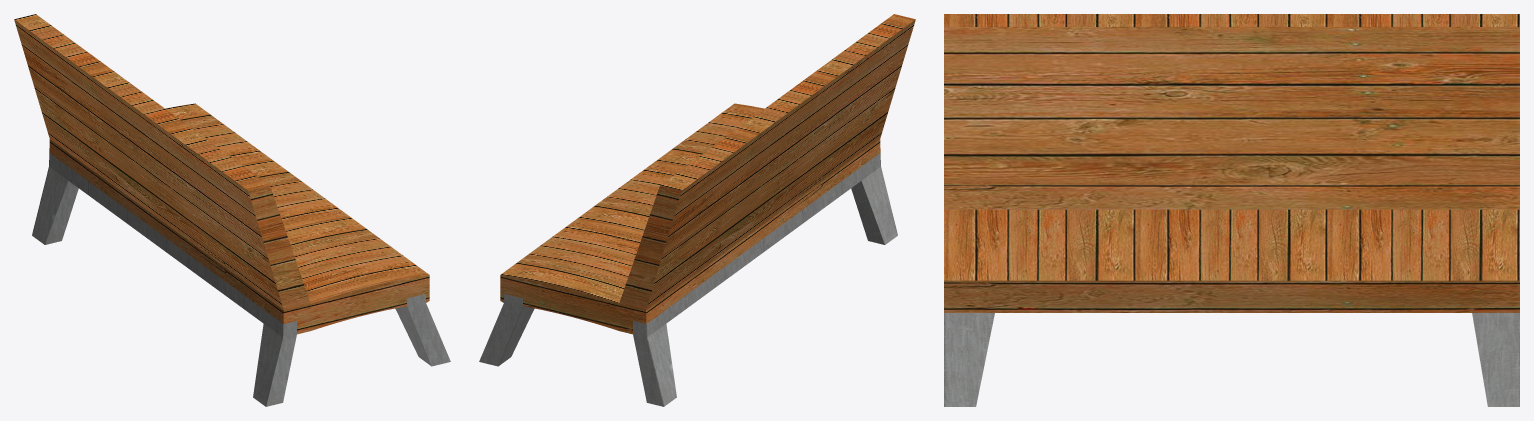
File: Bench.obj
3 renders of one model, left to right at view 1: azimuth 30°, elevation 25°; view 2: azimuth 150°, elevation 25°; view 3: azimuth 270°, elevation 25°, orthographic. The views are drawn at different scales.
Parts seen in each view (by area): view 1: Mesh1 Model; view 2: Mesh1 Model; view 3: Mesh1 Model.
Part boxes in pixels (x1,y1,x2,y2): Mesh1 Model: (14,14,450,406); Mesh1 Model: (479,14,915,406); Mesh1 Model: (944,14,1519,406).
Bounding box in the file's own units: 36 × 37.44 × 72.
2 materials, 2 textured.
